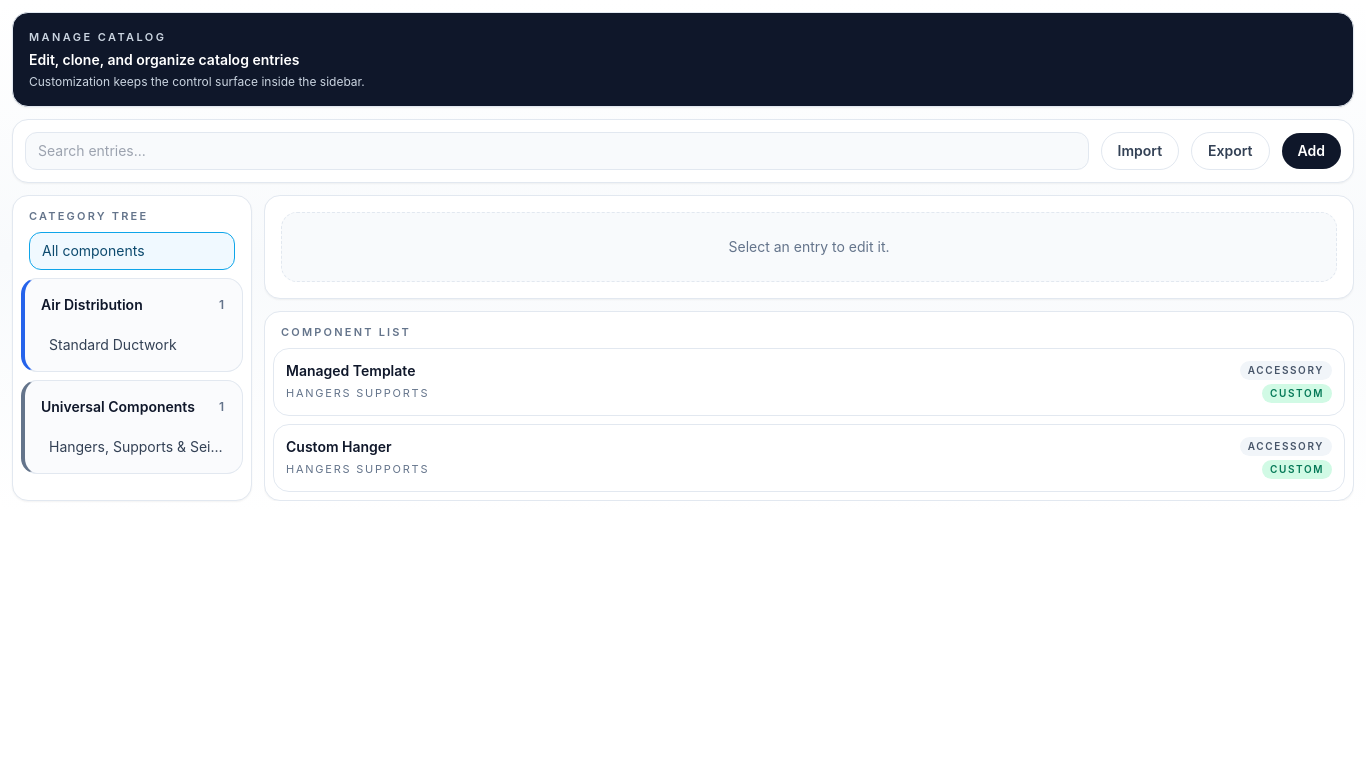
Test: ManagePanel › removes custom entries through the inline delete confirmation
Click the button with test id "manage-entry-custom-hanger".
click(339, 446)  # box x1=273 y1=424 x2=1345 y2=492
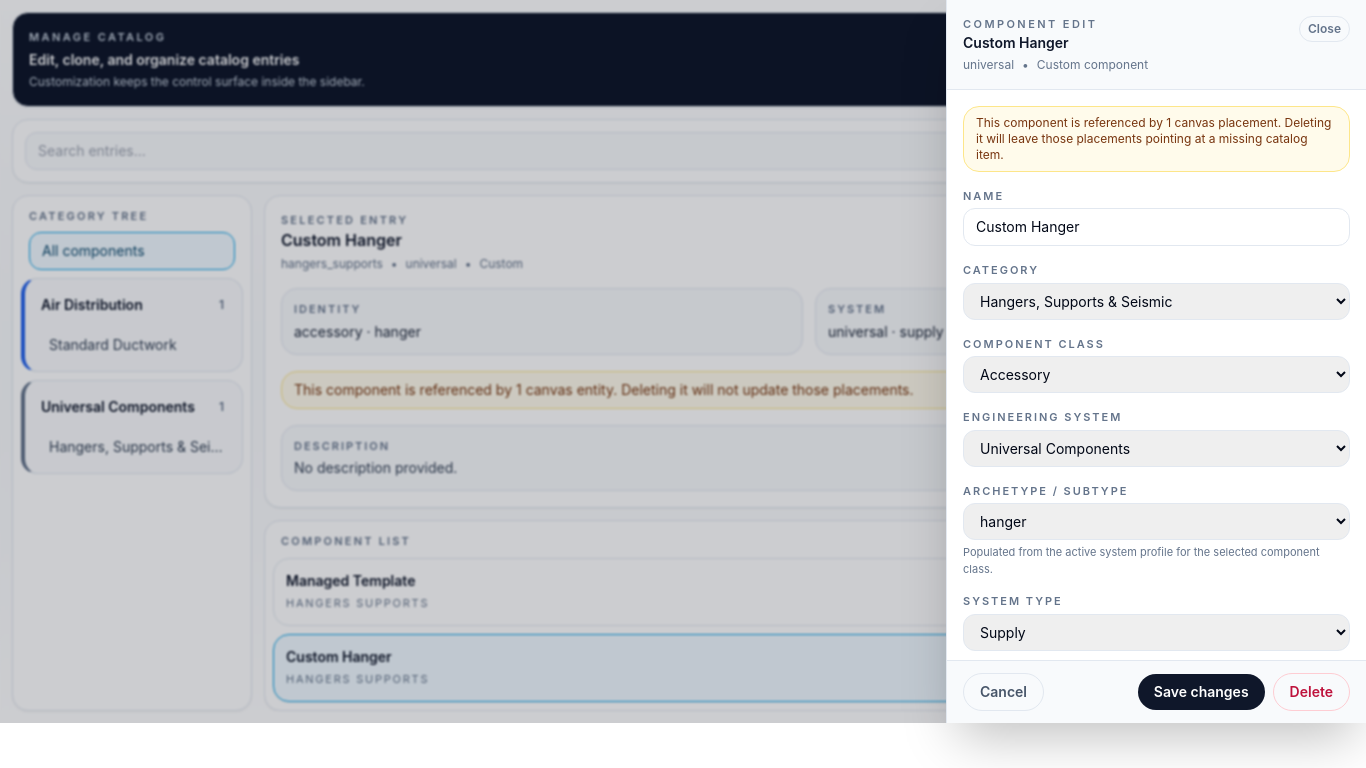
Click the button "Delete".
click(1311, 692)  # box x1=1273 y1=672 x2=1350 y2=710
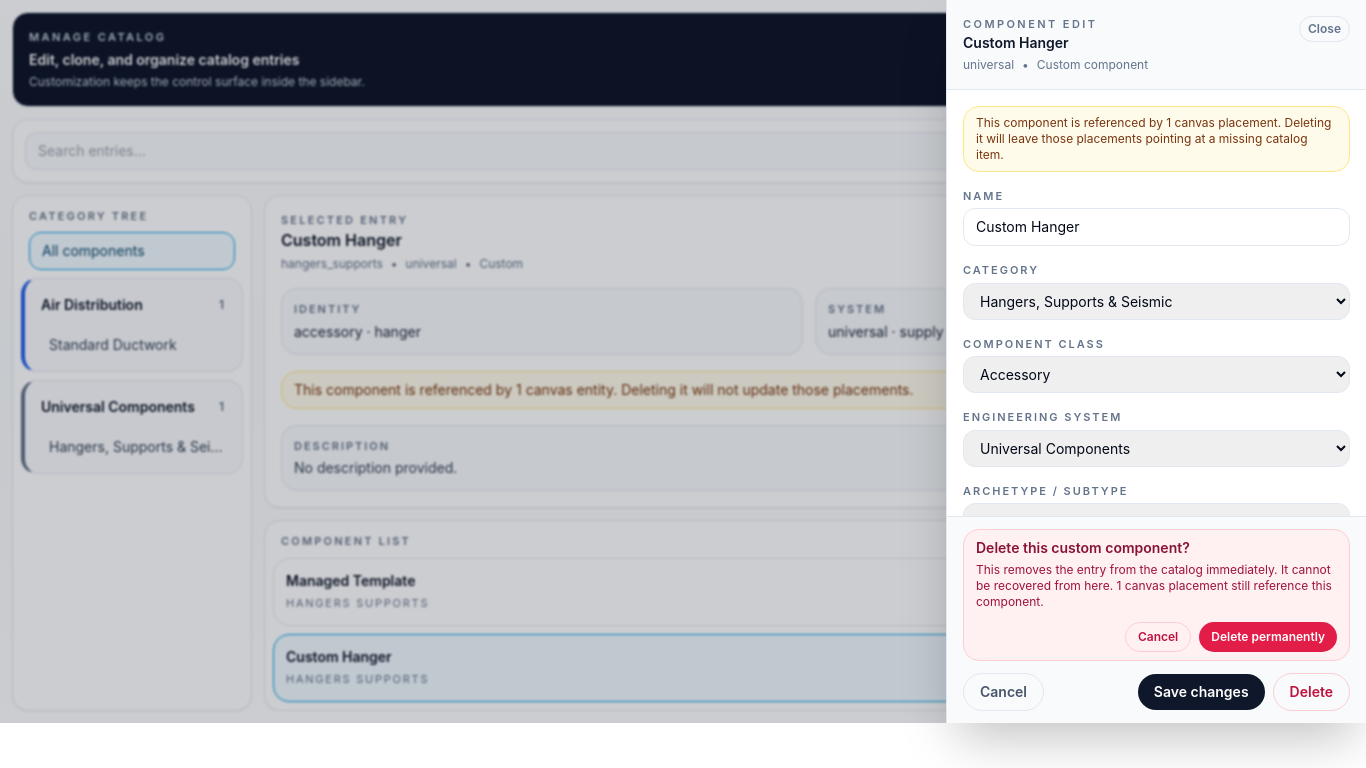
Now the text "Delete this custom component?" is shown, box x1=976 y1=538 x2=1190 y2=556
Click the button "Delete permanently".
click(1268, 636)  # box x1=1199 y1=622 x2=1337 y2=652
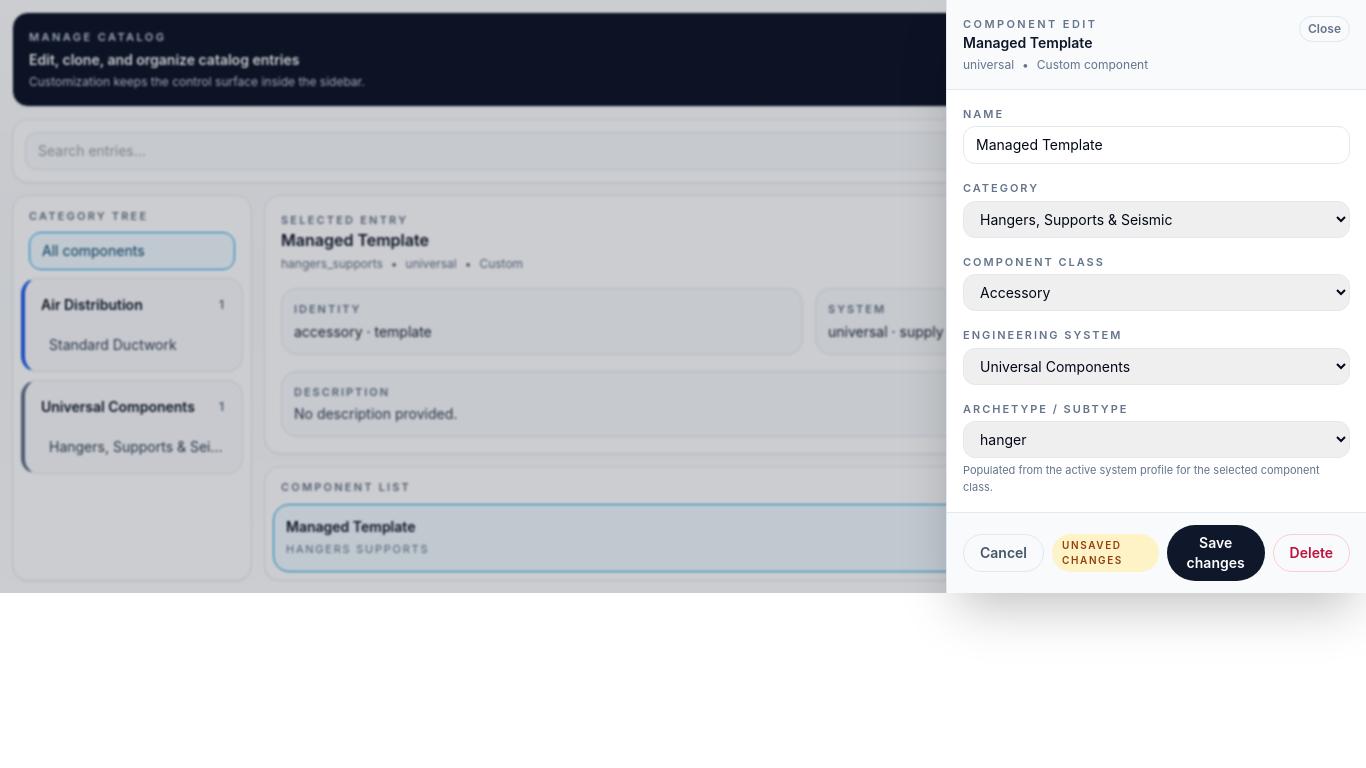
Now the heading "Custom Hanger" is gone
